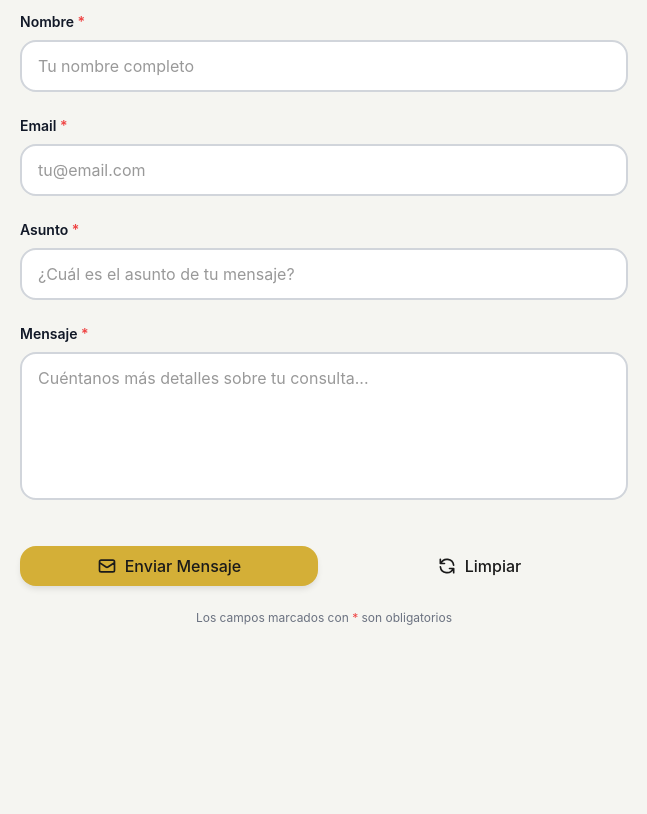
Test: ContactForm Component › shows error message when submission fails
This screenshot has width=647, height=814.
In the field labelled "Nombre *": (324,66) x1=20 y1=40 x2=628 y2=92, type "John Doe"
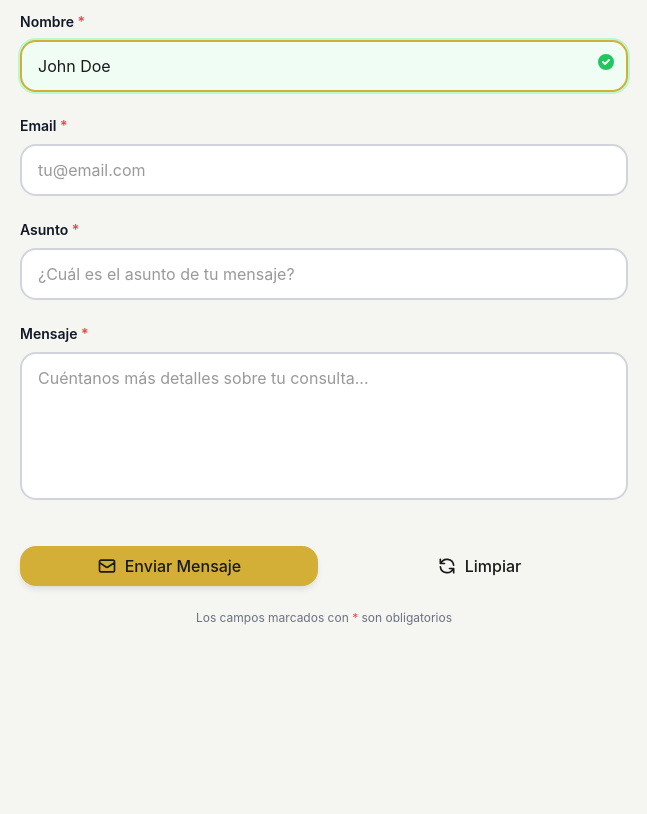
In the field labelled "Email *": (324,170) x1=20 y1=144 x2=628 y2=196, type "john@example.com"
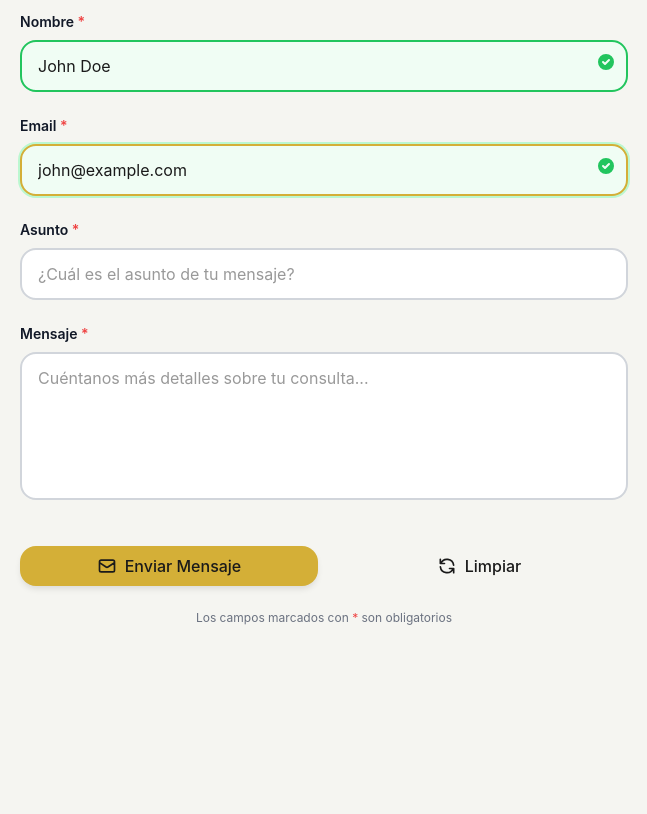
In the field labelled "Asunto *": (324,274) x1=20 y1=248 x2=628 y2=300, type "Test Subject"
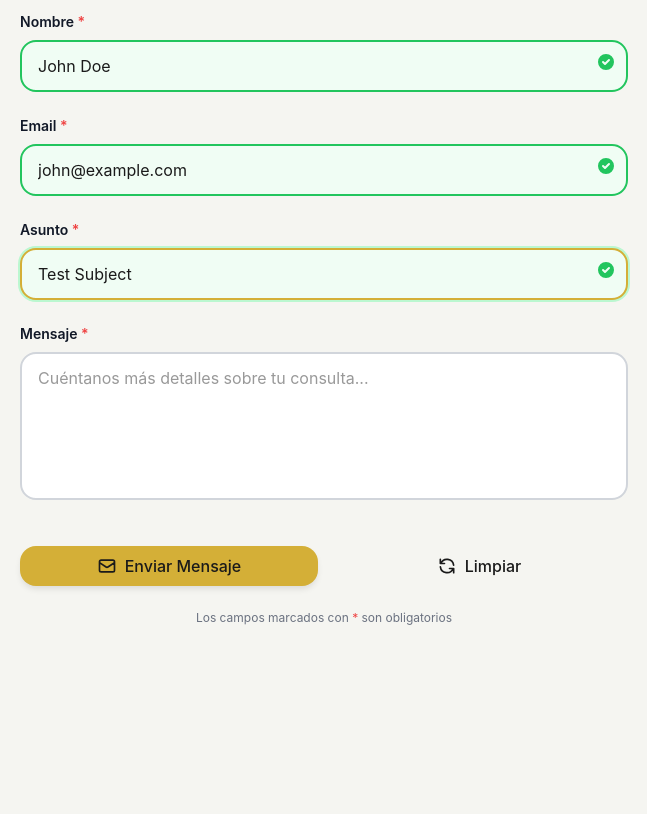
In the text box labelled "Mensaje *": (324,426) x1=20 y1=352 x2=628 y2=500, type "This is a test message"
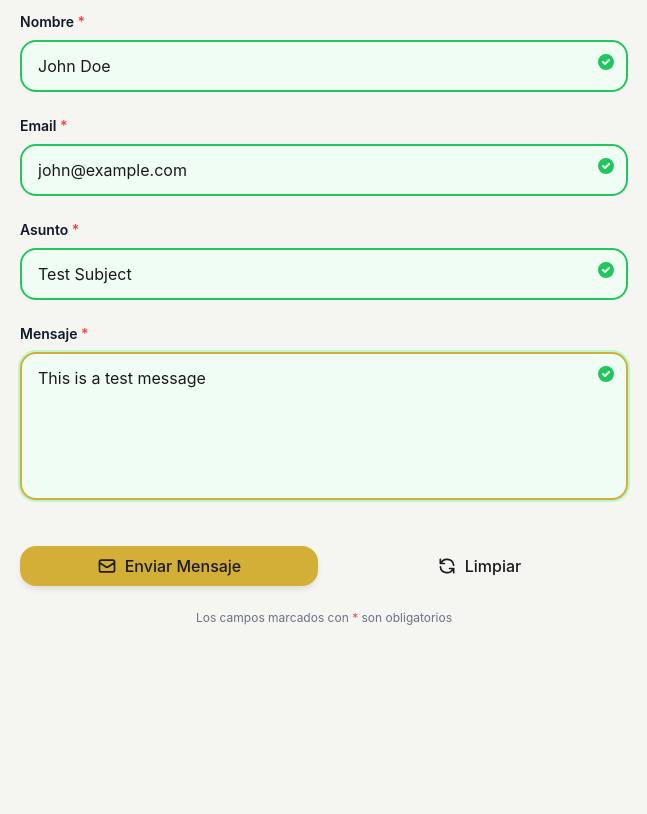
Click the button "Enviar Mensaje": (169,566) x1=20 y1=546 x2=318 y2=586
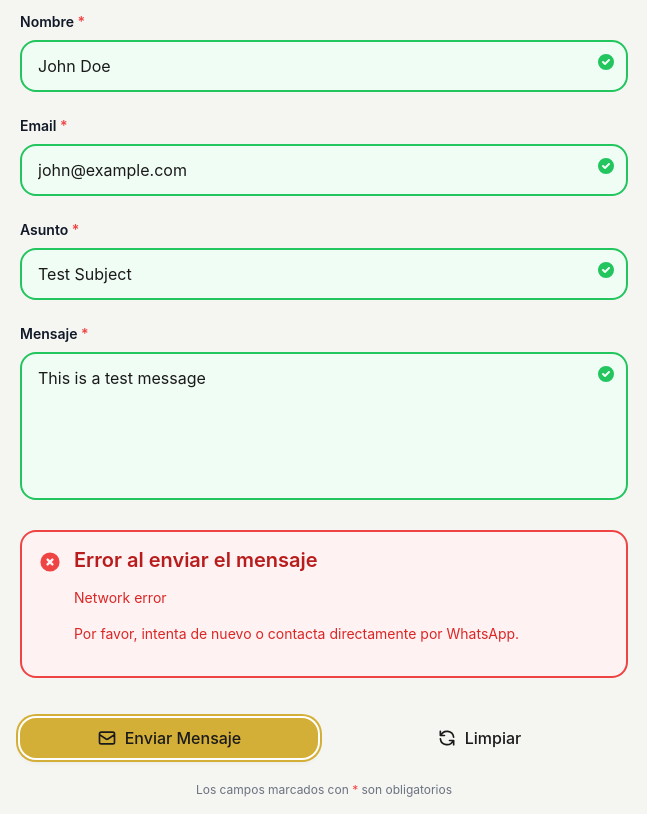
Check: the heading "Error al enviar el mensaje" is shown, box x1=74 y1=548 x2=318 y2=572
